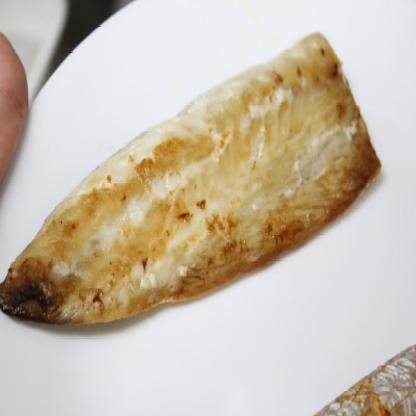Peixe: (0, 27, 372, 361)
